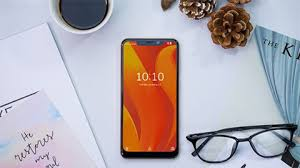vsmart: (115, 34, 182, 161)
